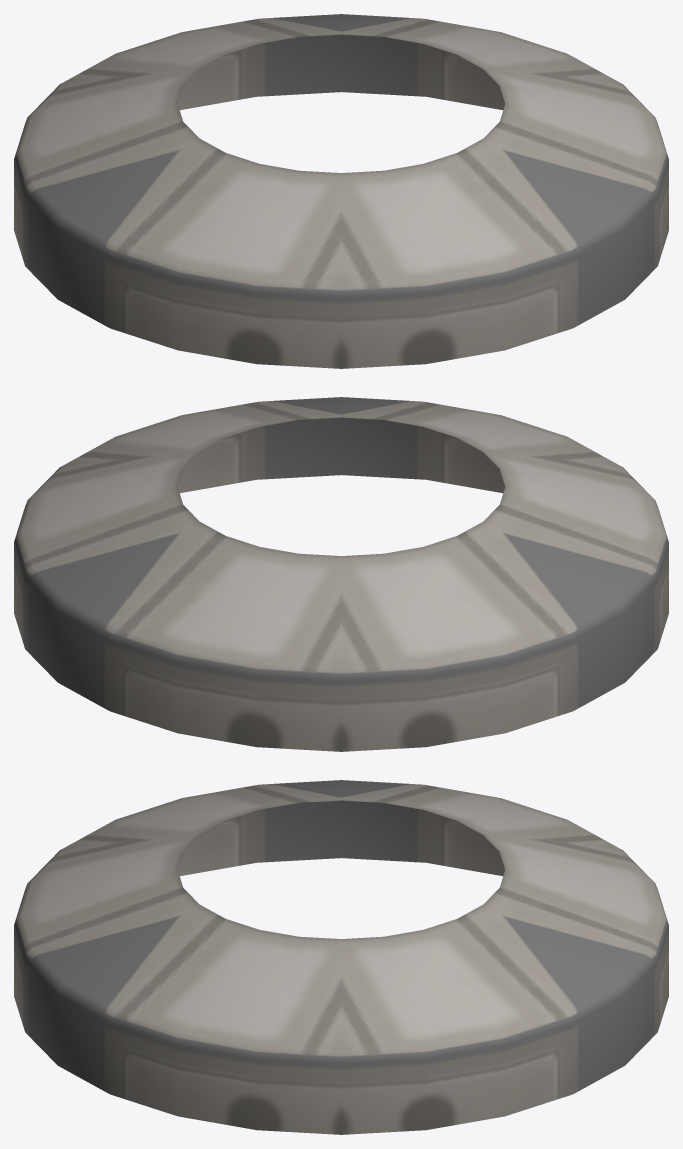
File: eridani_adapter_s1p5_s0p5_1.obj
The picture shows the model from 3 angles, top to bottom: view 1: azimuth 30°, elevation 25°; view 2: azimuth 150°, elevation 25°; view 3: azimuth 270°, elevation 25°; orthographic projection.
Parts seen in each view (by area): view 1: mesh1; view 2: mesh1; view 3: mesh1.
Part boxes in pixels (x1,y1,x2,y2): mesh1: [14, 14, 668, 368]; mesh1: [14, 397, 668, 751]; mesh1: [14, 780, 668, 1134].
Bounding box in the file's own units: 1.88 × 0.4 × 1.88.
Materials: 1 (1 with a texture image).
